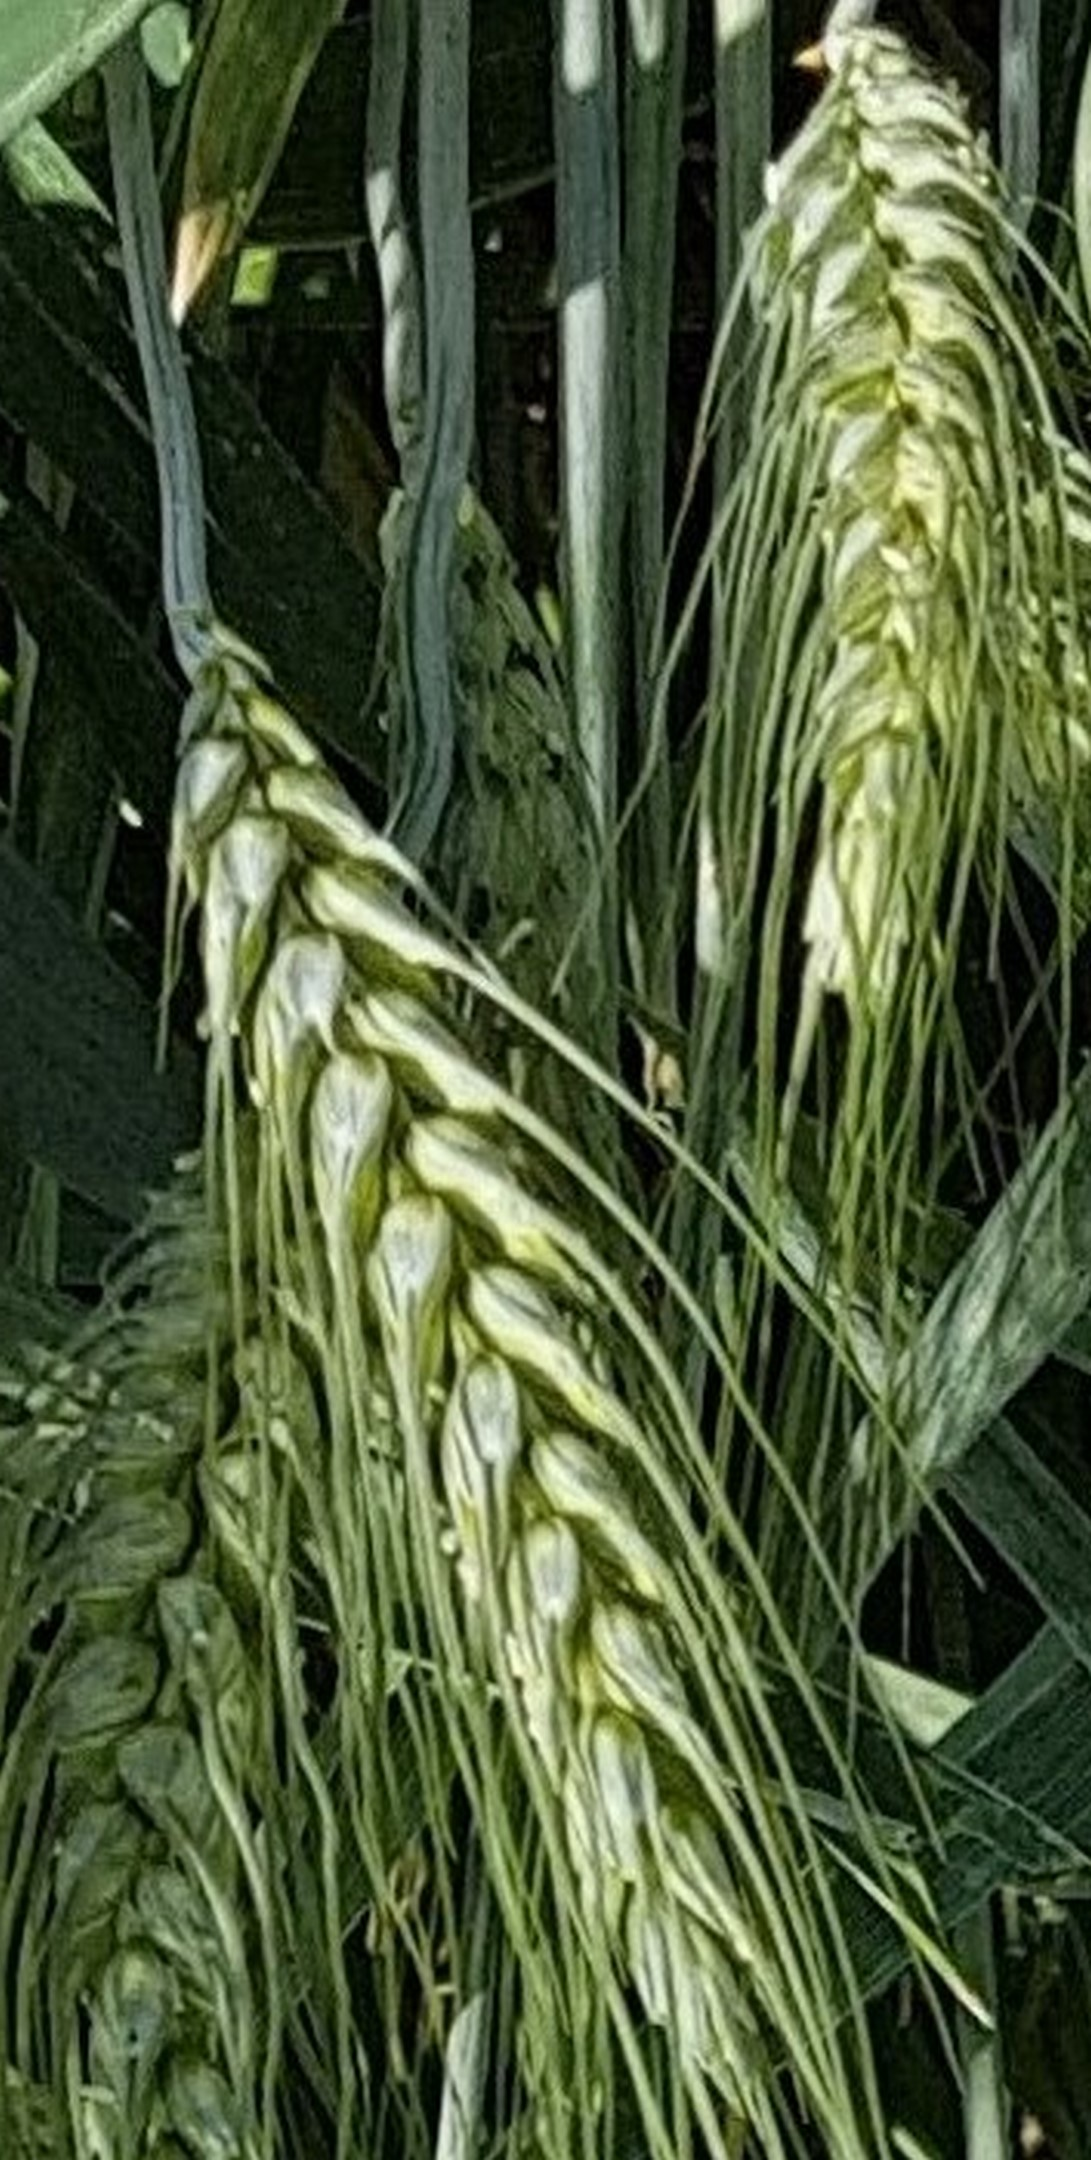Healthy Wheat: (139, 673, 802, 1982)
